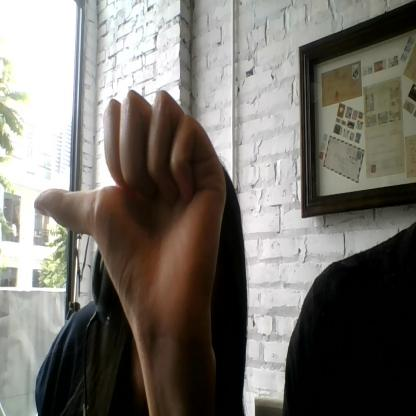right: (35, 91, 228, 359)
